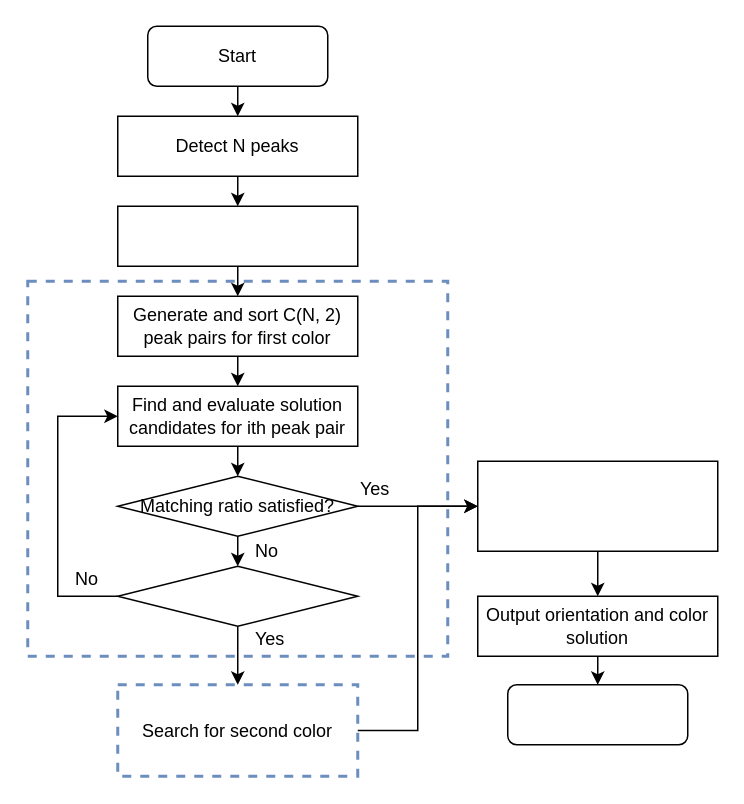
Image size: 744x804. Some labels were removed from this diagram. Each missing label, with the centre of its shape:
Convert to reciprocal vectors for two colors: the point at 237,235
End: the point at 597,714
Refine the best solution and split peaks into two color groups: the point at 597,505
Searching finished?: the point at 237,595
